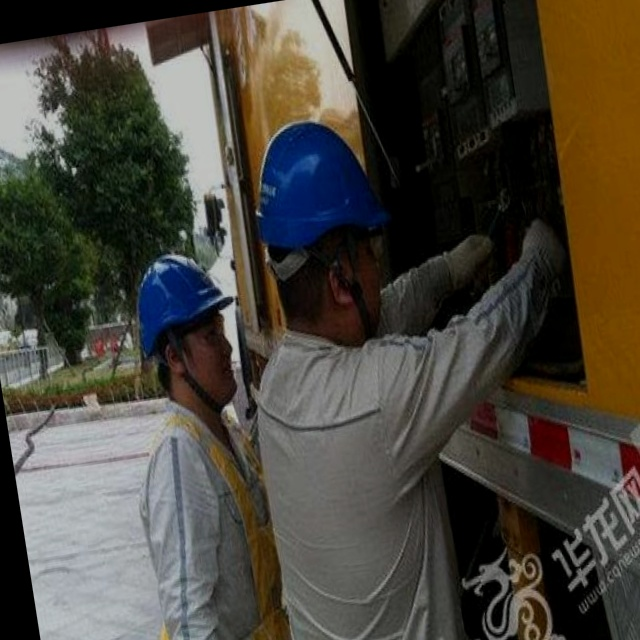Con_Casco: (246, 111, 400, 341), (125, 246, 248, 425)
